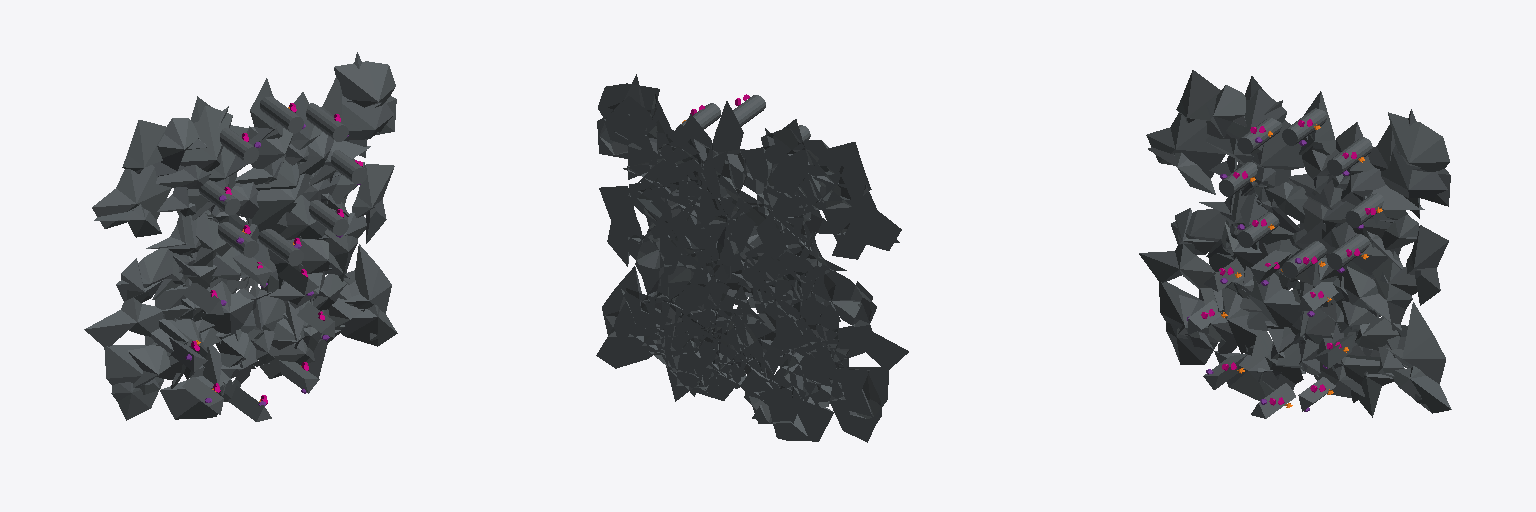
The model's file is tinker.obj.
The picture shows the model from 3 angles: view 1: azimuth 30°, elevation 25°; view 2: azimuth 150°, elevation 25°; view 3: azimuth 330°, elevation 25°; orthographic projection.
Visible parts, largest first — view 1: obj_0; view 2: obj_0; view 3: obj_0.
Part boxes in pixels (x1,y1,x2,y2): obj_0: (84,52,397,421); obj_0: (596,74,908,442); obj_0: (1139,70,1451,418).
Bounding box in the file's own units: 198 × 199 × 33.